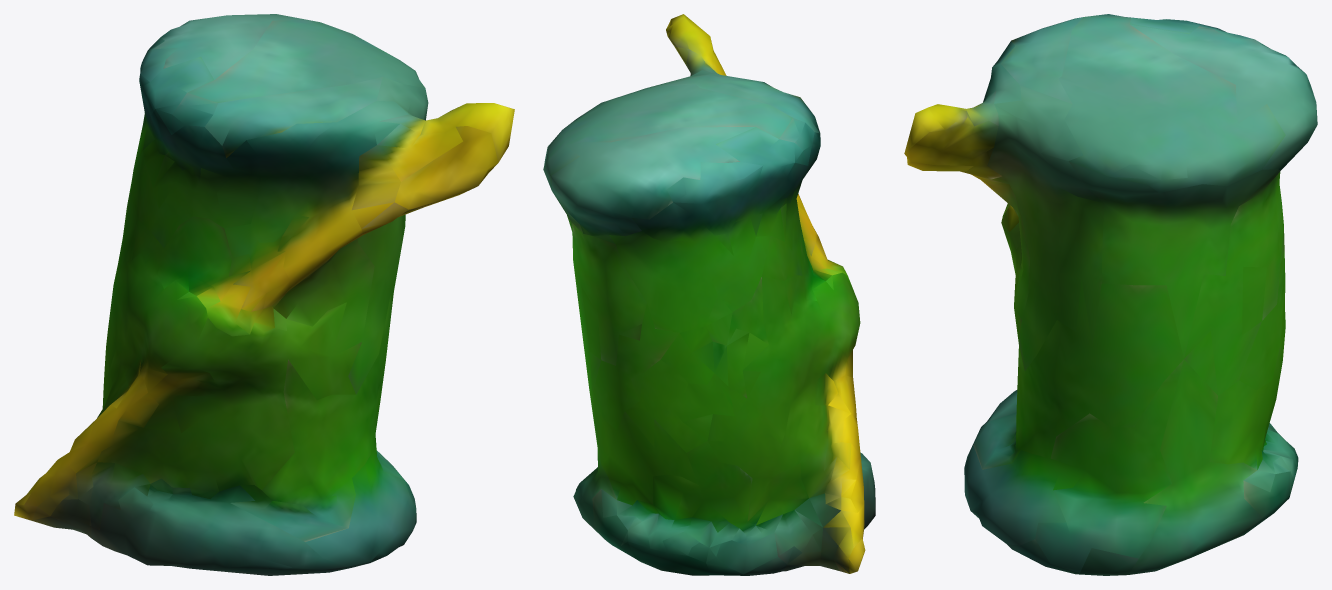
The model's file is luke-thread.glb.
3 renders of one model, left to right at view 1: azimuth 30°, elevation 25°; view 2: azimuth 150°, elevation 25°; view 3: azimuth 270°, elevation 25°, orthographic. The views are drawn at different scales.
Visible parts, largest first — view 1: Mesh; view 2: Mesh; view 3: Mesh.
Part boxes in pixels (box(x1,y1,x2,y2)): Mesh: box(14, 14, 514, 575); Mesh: box(543, 14, 875, 575); Mesh: box(904, 14, 1317, 575).
Size of the model in its own units: 0.6083 by 0.747 by 0.5853.
1 material, 1 textured.
